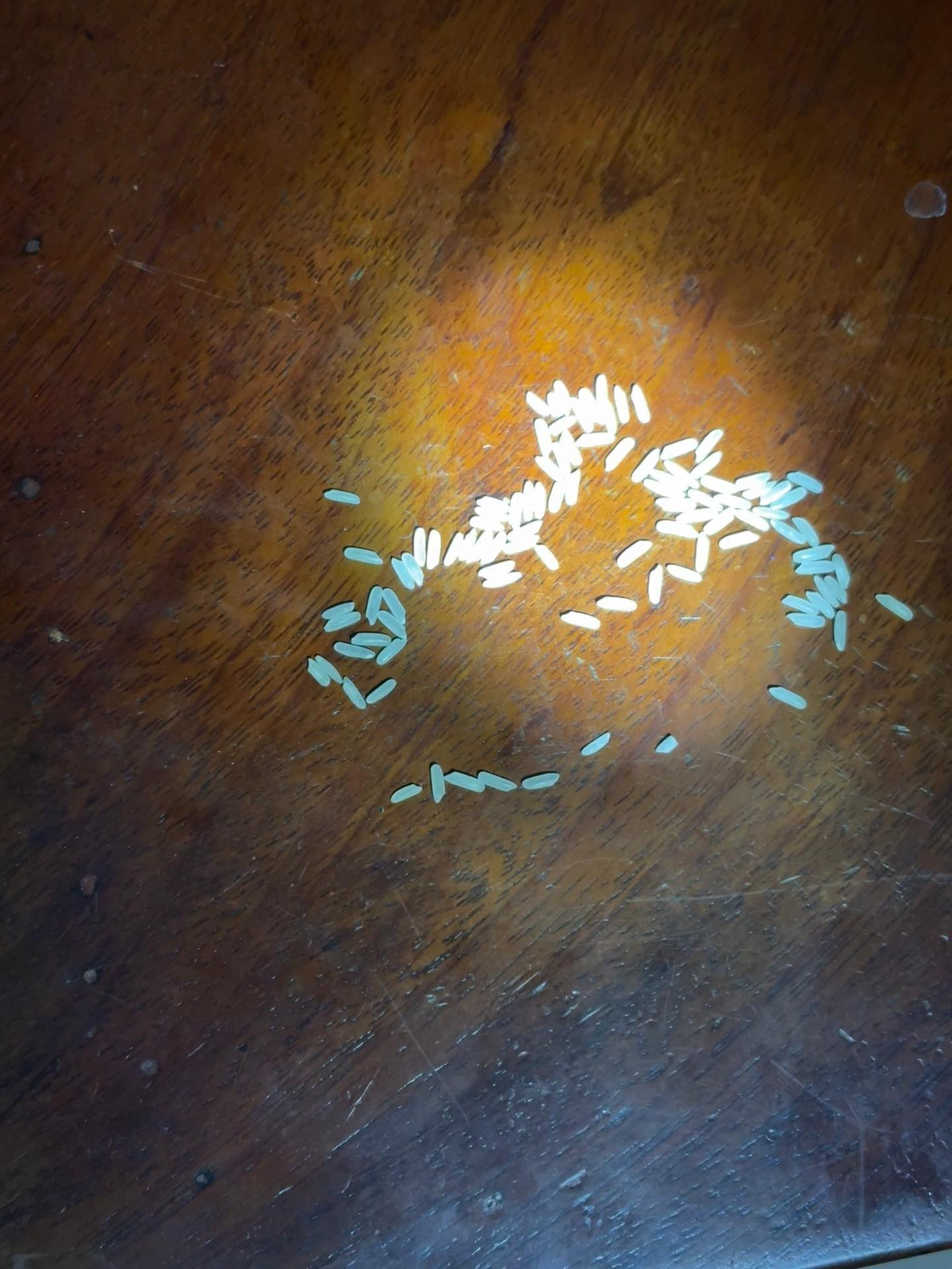Rice-th-y-nh: (631, 448, 661, 484), (604, 438, 635, 472), (694, 429, 724, 464), (593, 375, 614, 423), (579, 388, 604, 428), (876, 594, 913, 621), (616, 541, 652, 568), (703, 507, 735, 536), (771, 519, 805, 546), (650, 468, 686, 493), (792, 516, 820, 547), (690, 452, 722, 479), (559, 430, 583, 466), (769, 686, 806, 709), (770, 487, 807, 510), (663, 459, 692, 488), (445, 772, 485, 793), (793, 543, 835, 563), (813, 576, 840, 607), (660, 438, 698, 460), (481, 532, 507, 564), (467, 531, 493, 563), (383, 589, 406, 625), (734, 509, 770, 532), (478, 771, 517, 792), (561, 610, 600, 631), (806, 590, 834, 619), (788, 471, 823, 494), (504, 534, 540, 556), (759, 481, 792, 505), (378, 611, 406, 639), (376, 638, 405, 665), (571, 399, 594, 433), (631, 385, 651, 424), (719, 530, 758, 550), (655, 496, 696, 515), (342, 678, 366, 710), (643, 479, 683, 498), (783, 595, 819, 616), (316, 655, 342, 684), (535, 456, 565, 481), (508, 520, 542, 542), (715, 492, 752, 512), (656, 521, 697, 539), (392, 558, 415, 590), (562, 470, 583, 505), (402, 552, 424, 585), (367, 679, 396, 704), (484, 571, 522, 590), (325, 612, 361, 632), (335, 642, 375, 660), (831, 554, 851, 590), (478, 560, 515, 579), (534, 419, 553, 456), (823, 575, 847, 604), (677, 507, 717, 524), (552, 443, 572, 477), (534, 544, 559, 571), (345, 547, 382, 565), (734, 472, 771, 490), (667, 564, 702, 583), (700, 475, 735, 494), (581, 733, 611, 755), (444, 533, 464, 566), (613, 386, 630, 424), (597, 596, 637, 612), (752, 504, 789, 521), (576, 431, 613, 448), (787, 612, 824, 629), (648, 565, 664, 604), (694, 534, 710, 573), (307, 659, 330, 686), (833, 611, 848, 652), (523, 773, 559, 790), (508, 493, 525, 529), (366, 587, 382, 625), (796, 560, 834, 576), (426, 530, 442, 568), (547, 481, 566, 513), (526, 392, 550, 417), (430, 765, 446, 802), (390, 784, 421, 803), (688, 488, 716, 509), (477, 496, 509, 514), (413, 528, 428, 566), (549, 415, 576, 436), (322, 602, 355, 619), (461, 529, 478, 562), (532, 482, 547, 519), (546, 392, 568, 417), (351, 632, 390, 646), (554, 381, 570, 415), (743, 481, 770, 501), (470, 516, 503, 532), (325, 490, 360, 504), (474, 506, 503, 522), (523, 481, 535, 518), (655, 736, 677, 753)
